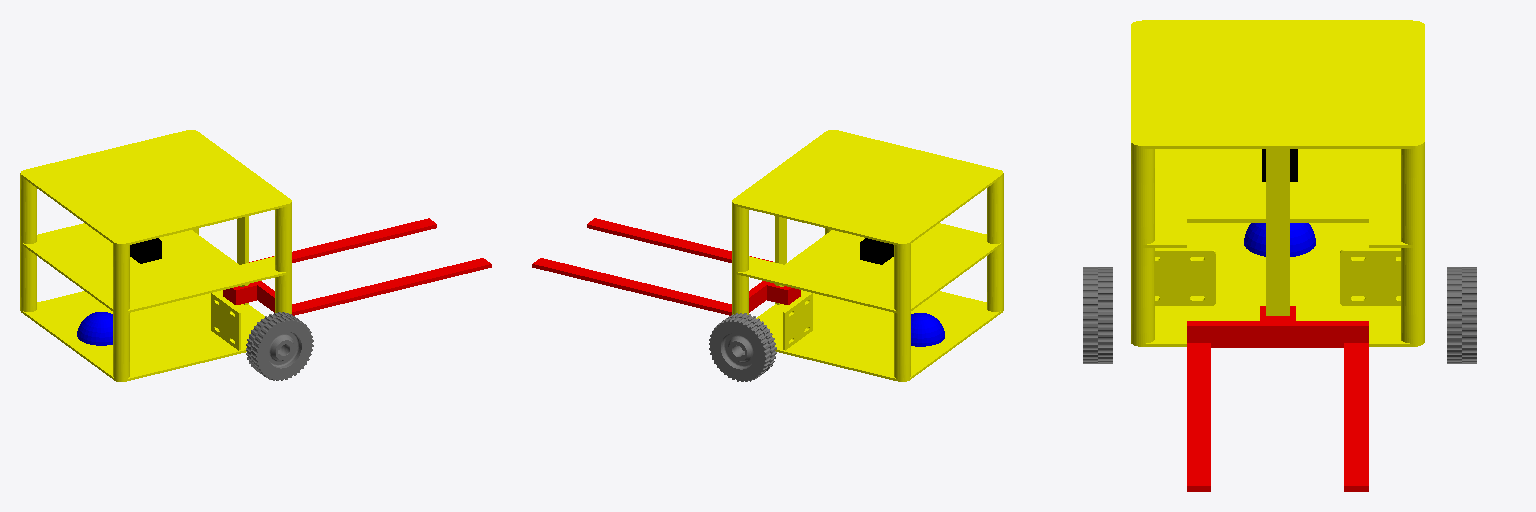
URDF robot description (forklift):
<?xml version="1.0" ?>
<!-- =================================================================================== -->
<!-- |    This document was autogenerated by xacro from src/forklift_description/urdf/robot.xacro | -->
<!-- |    EDITING THIS FILE BY HAND IS NOT RECOMMENDED                                 | -->
<!-- =================================================================================== -->
<robot name="forklift">
  <material name="silver">
    <color rgba="0.7 0.7 0.7 1.0"/>
  </material>
  <material name="green">
    <color rgba="0.0 1.0 0.0 1.0"/>
  </material>
  <material name="black">
    <color rgba="0.0 0.0 0.0 1.0"/>
  </material>
  <material name="red">
    <color rgba="1.0 0.0 0.0 1.0"/>
  </material>
  <material name="blue">
    <color rgba="0.0 0.0 1.0 1.0"/>
  </material>
  <material name="white">
    <color rgba="1.0 1.0 1.0 1.0"/>
  </material>
  <material name="yellow">
    <color rgba="1.0 1.0 0.0 1.0"/>
  </material>
  <material name="orange">
    <color rgba="1.0 0.5 0.0 1.0"/>
  </material>
  <material name="gold">
    <color rgba="1.0 0.84 0.0 1.0"/>
  </material>
  <material name="gray">
    <color rgba="0.5 0.5 0.5 1.0"/>
  </material>
  <material name="turquoise">
    <color rgba="0.25098039215686274 0.8784313725490196 0.8156862745098039 1.0"/>
  </material>
  <material name="purple">
    <color rgba="0.5019607843137255 0.0 0.5019607843137255 1.0"/>
  </material>
  <material name="aluminium">
    <color rgba="0.5 0.5 0.5 1"/>
  </material>
  <material name="plastic">
    <color rgba="0.1 0.1 0.1 1"/>
  </material>
  <!--................................ INERTIA MATRICES .............................. -->
  <!-- <xacro:include filename="$(find forklift_description)/urdf/ros2_control.xacro"/> -->
  <!-- Sensor Systems -->
  <gazebo>
    <!-- <plugin filename="libignition-gazebo-sensors-system.so"
                name="ignition::gazebo::systems::Sensors">
            <render_engine>ogre2</render_engine>
        </plugin> -->
    <!-- <plugin filename="libignition-gazebo-imu-system.so"
                name="ignition::gazebo::systems::Imu">
        </plugin> -->
    <!-- <plugin
            filename="libignition-gazebo-scene-broadcaster-system.so"
            name="ignition::gazebo::systems::SceneBroadcaster">
        </plugin> -->
    <plugin filename="libignition-gazebo-joint-state-publisher-system.so" name="ignition::gazebo::systems::JointStatePublisher">
      <joint_name>left_wheel_joint</joint_name>
      <joint_name>right_wheel_joint</joint_name>
      <joint_name>lift_joint</joint_name>
      <topic_name>/joint_states</topic_name>
      <update_rate>50</update_rate>
    </plugin>
    <!-- Loads the ros2_control hardware defined in ros2_control.xacro.
             This was missing before; without it, the controller_manager
             never spawns inside Ignition. Point <parameters> at your
             actual controllers.yaml. -->
    <!-- <plugin filename="libign_ros2_control-system.so"
                name="ign_ros2_control::IgnitionROS2ControlPlugin">
            <parameters>$(find forklift_gazebo)/config/forklift_controllers.yaml</parameters>
            <ros>
              <namespace>${prefix}</namespace>
            </ros>
        </plugin> -->
  </gazebo>
  <!-- Differential Drive Controller -->
  <gazebo>
    <plugin filename="libignition-gazebo-diff-drive-system.so" name="ignition::gazebo::systems::DiffDrive">
      <!-- Wheel Configuration -->
      <left_joint>left_wheel_joint</left_joint>
      <right_joint>right_wheel_joint</right_joint>
      <wheel_separation>0.3</wheel_separation>
      <wheel_radius>0.05</wheel_radius>
      <update_rate>50</update_rate>
      <!-- Performance Limits -->
      <max_wheel_acceleration>1.0</max_wheel_acceleration>
      <max_wheel_torque>40</max_wheel_torque>
      <!-- Odometry settings -->
      <odom_publish_frequency>50</odom_publish_frequency>
      <publish_odom>true</publish_odom>
      <publish_odom_tf>false</publish_odom_tf>
      <publish_wheel_tf>true</publish_wheel_tf>
      <!-- Topic Configuration -->
      <topic>/cmd_vel</topic>
      <odom_frame_id>odom</odom_frame_id>
      <robot_base_frame_id>base_footprint</robot_base_frame_id>
      <frame_id>odom</frame_id>
      <child_frame_id>base_footprint</child_frame_id>
    </plugin>
  </gazebo>
  <gazebo>
    <plugin filename="libignition-gazebo-joint-position-controller-system.so" name="ignition::gazebo::systems::JointPositionController">
      <joint_name>lift_joint</joint_name>
      <p_gain>1000.0</p_gain>
      <i_gain>0.2</i_gain>
      <d_gain>0.01</d_gain>
      <i_max>20</i_max>
      <i_min>-20</i_min>
      <cmd_max>1500</cmd_max>
      <cmd_min>-1500</cmd_min>
      <topic>/lift_cmd</topic>
    </plugin>
  </gazebo>
  <!-- ............................. ground truth .................................... -->
  <gazebo>
    <!-- NOTE: original filename was missing the .so extension, which
               would fail to load. Fixed here. -->
    <plugin filename="libignition-gazebo-odometry-publisher-system.so" name="ignition::gazebo::systems::OdometryPublisher">
      <odom_frame>odom</odom_frame>
      <robot_base_frame>base_footprint</robot_base_frame>
      <odom_topic>odom</odom_topic>
      <tf_topic>/tf</tf_topic>
      <dimensions>2</dimensions>
      <odom_publish_frequency>50</odom_publish_frequency>
    </plugin>
  </gazebo>
  <!-- IMU Sensor -->
  <gazebo reference="imu_link">
    <sensor name="imu_sensor" type="imu">
      <always_on>true</always_on>
      <update_rate>100</update_rate>
      <visualize>true</visualize>
      <topic>/imu</topic>
      <ignition_frame_id>imu_link</ignition_frame_id>
      <imu>
        <angular_velocity>
          <x>
            <noise type="gaussian">
              <mean>0.0</mean>
              <stddev>2e-4</stddev>
              <bias_mean>0.0000075</bias_mean>
              <bias_stddev>0.0000008</bias_stddev>
            </noise>
          </x>
          <y>
            <noise type="gaussian">
              <mean>0.0</mean>
              <stddev>2e-4</stddev>
              <bias_mean>0.0000075</bias_mean>
              <bias_stddev>0.0000008</bias_stddev>
            </noise>
          </y>
          <z>
            <noise type="gaussian">
              <mean>0.0</mean>
              <stddev>2e-4</stddev>
              <bias_mean>0.0000075</bias_mean>
              <bias_stddev>0.0000008</bias_stddev>
            </noise>
          </z>
        </angular_velocity>
        <linear_acceleration>
          <x>
            <noise type="gaussian">
              <mean>0.0</mean>
              <stddev>1.7e-2</stddev>
              <bias_mean>0.1</bias_mean>
              <bias_stddev>0.001</bias_stddev>
            </noise>
          </x>
          <y>
            <noise type="gaussian">
              <mean>0.0</mean>
              <stddev>1.7e-2</stddev>
              <bias_mean>0.1</bias_mean>
              <bias_stddev>0.001</bias_stddev>
            </noise>
          </y>
          <z>
            <noise type="gaussian">
              <mean>0.0</mean>
              <stddev>1.7e-2</stddev>
              <bias_mean>0.1</bias_mean>
              <bias_stddev>0.001</bias_stddev>
            </noise>
          </z>
        </linear_acceleration>
      </imu>
    </sensor>
  </gazebo>
  <!-- LIDAR Sensor -->
  <!-- NOTE: reference must match the actual link name in robot.xacro
         (ydlidar_lidar_mount), not the generic "lidar_link" from before. -->
  <gazebo reference="lidar_link">
    <sensor name="lidar" type="gpu_lidar">
      <always_on>true</always_on>
      <visualize>true</visualize>
      <update_rate>30</update_rate>
      <topic>/scan</topic>
      <!-- NOTE: was hardcoded to the literal string "lidar_frame_id" before.
             Now correctly references the const.xacro property. -->
      <ignition_frame_id>lidar_link</ignition_frame_id>
      <lidar>
        <scan>
          <horizontal>
            <samples>360</samples>
            <resolution>1</resolution>
            <!-- NOTE: was referencing undefined properties lidarFR_min_angle /
                   lidarFR_max_angle before. Fixed to the properties that
                   actually exist in const.xacro (lidar_min_angle / lidar_max_angle). -->
            <min_angle>0.0</min_angle>
            <max_angle>6.283185307179586</max_angle>
          </horizontal>
        </scan>
        <range>
          <min>0.2</min>
          <max>7</max>
          <resolution>0.015000</resolution>
        </range>
        <noise>
          <type>gaussian</type>
          <mean>0.0</mean>
          <stddev>0.01</stddev>
        </noise>
      </lidar>
    </sensor>
  </gazebo>
  <!-- CAMERA -->
  <!-- NOTE: reference must match the actual link name in robot.xacro
         (front_camera_mount), not the generic "camera_link" from before. -->
  <gazebo reference="camera_link">
    <sensor name="camera" type="rgbd_camera">
      <always_on>true</always_on>
      <visualize>true</visualize>
      <update_rate>30.0</update_rate>
      <topic>/camera</topic>
      <ignition_frame_id>camera_link</ignition_frame_id>
      <camera_info_topic>/camera_info</camera_info_topic>
      <camera name="camera">
        <pose>0 0 0 0 0.0 0</pose>
        <horizontal_fov>1.08</horizontal_fov>
        <image>
          <width>640</width>
          <height>480</height>
          <format>R8G8B8</format>
        </image>
        <clip>
          <near>0.05</near>
          <far>5</far>
        </clip>
        <noise>
          <type>gaussian</type>
          <mean>0.0</mean>
          <stddev>0.01</stddev>
        </noise>
        <baseline>0.2</baseline>
        <pointCloudCutoff>0.5</pointCloudCutoff>
        <pointCloudCutoffMax>3.0</pointCloudCutoffMax>
        <distortionK1>0</distortionK1>
        <distortionK2>0</distortionK2>
        <distortionK3>0</distortionK3>
        <distortionT1>0</distortionT1>
        <distortionT2>0</distortionT2>
        <CxPrime>0</CxPrime>
        <Cx>0</Cx>
        <Cy>0</Cy>
        <focalLength>0</focalLength>
        <hackBaseline>0</hackBaseline>
      </camera>
    </sensor>
  </gazebo>
  <!-- ................................ BASE LINK .................................. -->
  <link name="base_footprint"/>
  <link name="base_link">
    <visual>
      <origin rpy="0 0 3.14159" xyz="-0.15 -0.045 0.15"/>
      <geometry>
        <mesh filename="package://forklift_description/meshes/mini_forklift_base.stl" scale="0.001 0.001 0.001"/>
      </geometry>
      <material name="yellow"/>
    </visual>
    <collision>
      <origin rpy="0 0 3.14159" xyz="-0.15 -0.045 0.15"/>
      <geometry>
        <box size="0.245 0.2426 0.18"/>
      </geometry>
    </collision>
    <inertial>
      <origin rpy="0 0 0" xyz="0 0 0"/>
      <mass value="3.0"/>
      <inertia ixx="0.02281369" ixy="0" ixz="0" iyy="0.02310625" iyz="0" izz="0.02971994"/>
    </inertial>
  </link>
  <joint name="base_joint" type="fixed">
    <parent link="base_footprint"/>
    <child link="base_link"/>
    <origin rpy="0 0 0" xyz="0.0 0.0 0.04"/>
  </joint>
  <!-- Wheel Link -->
  <link name="left_wheel_link">
    <visual>
      <origin rpy="1.5707963267948966 0 0" xyz="0 0 0"/>
      <geometry>
        <mesh filename="package://forklift_description/meshes/wheel.stl" scale="0.001 0.001 0.001"/>
      </geometry>
      <material name="black">
        <color rgba="0.5 0.5 0.5 1.0"/>
      </material>
    </visual>
    <collision>
      <origin rpy="1.5707963267948966 0 0" xyz="0 0 0"/>
      <geometry>
        <cylinder length="0.025" radius="0.04"/>
      </geometry>
    </collision>
    <inertial>
      <origin rpy="1.5707963267948966 0 0" xyz="0 0 0"/>
      <mass value="0.1"/>
      <inertia ixx="4.5208333333333325e-05" ixy="0.0" ixz="0.0" iyy="8e-05" iyz="0.0" izz="4.5208333333333325e-05"/>
    </inertial>
  </link>
  <!-- Wheel Joint -->
  <joint name="left_wheel_joint" type="continuous">
    <parent link="base_link"/>
    <child link="left_wheel_link"/>
    <origin rpy="0 0 0" xyz="0.1 0.15 0.0"/>
    <axis xyz="0 1 0"/>
    <dynamics damping="0.2"/>
  </joint>
  <!-- Gazebo Simulation Properties -->
  <gazebo reference="left_wheel_link">
    <material>Gazebo/Black</material>
    <mu>5.0</mu>
  </gazebo>
  <!-- Wheel Link -->
  <link name="right_wheel_link">
    <visual>
      <origin rpy="1.5707963267948966 0 0" xyz="0 0 0"/>
      <geometry>
        <mesh filename="package://forklift_description/meshes/wheel.stl" scale="0.001 0.001 0.001"/>
      </geometry>
      <material name="black">
        <color rgba="0.5 0.5 0.5 1.0"/>
      </material>
    </visual>
    <collision>
      <origin rpy="1.5707963267948966 0 0" xyz="0 0 0"/>
      <geometry>
        <cylinder length="0.025" radius="0.04"/>
      </geometry>
    </collision>
    <inertial>
      <origin rpy="1.5707963267948966 0 0" xyz="0 0 0"/>
      <mass value="0.1"/>
      <inertia ixx="4.5208333333333325e-05" ixy="0.0" ixz="0.0" iyy="8e-05" iyz="0.0" izz="4.5208333333333325e-05"/>
    </inertial>
  </link>
  <!-- Wheel Joint -->
  <joint name="right_wheel_joint" type="continuous">
    <parent link="base_link"/>
    <child link="right_wheel_link"/>
    <origin rpy="0 0 0" xyz="0.1 -0.15 0.0"/>
    <axis xyz="0 1 0"/>
    <dynamics damping="0.2"/>
  </joint>
  <!-- Gazebo Simulation Properties -->
  <gazebo reference="right_wheel_link">
    <material>Gazebo/Black</material>
    <mu>5.0</mu>
  </gazebo>
  <link name="lift_link">
    <visual>
      <origin rpy="0 0 3.14159" xyz="-0.59 -0.045 0.15"/>
      <geometry>
        <mesh filename="package://forklift_description/meshes/fork.stl" scale="0.002 0.001 0.001"/>
      </geometry>
      <material name="red"/>
    </visual>
    <collision>
      <origin rpy="0 0 3.14159" xyz="-0.59 -0.045 0.15"/>
      <geometry>
        <mesh filename="package://forklift_description/meshes/fork.stl" scale="0.002 0.001 0.001"/>
      </geometry>
    </collision>
    <inertial>
      <origin rpy="0 0 0" xyz="0 0 0"/>
      <mass value="0.5"/>
      <inertia ixx="0.0024897816666666667" ixy="0" ixz="0" iyy="0.0037874999999999996" iyz="0" izz="0.006202281666666667"/>
    </inertial>
  </link>
  <joint name="lift_joint" type="prismatic">
    <parent link="base_link"/>
    <child link="lift_link"/>
    <origin rpy="0 0 0" xyz="0.1525 0.0 0"/>
    <axis xyz="0 0 1"/>
    <limit effort="500" lower="0.0" upper="0.15" velocity="0.1"/>
    <dynamics damping="5.0" friction="1.0"/>
  </joint>
  <gazebo reference="lift_link">
    <material>Gazebo/Yellow</material>
    <mu1>10.0</mu1>
    <mu2>10.0</mu2>
    <kp>1000000</kp>
    <kd>10</kd>
    <max_contacts>20</max_contacts>
  </gazebo>
  <transmission name="left_wheel_trans">
    <type>transmission_interface/SimpleTransmission</type>
    <joint name="left_wheel_joint">
      <hardwareInterface>hardware_interface/VelocityJointInterface</hardwareInterface>
    </joint>
    <actuator name="left_wheel_motor">
      <hardwareInterface>hardware_interface/VelocityJointInterface</hardwareInterface>
      <mechanicalReduction>1</mechanicalReduction>
    </actuator>
  </transmission>
  <transmission name="right_wheel_trans">
    <type>transmission_interface/SimpleTransmission</type>
    <joint name="right_wheel_joint">
      <hardwareInterface>hardware_interface/VelocityJointInterface</hardwareInterface>
    </joint>
    <actuator name="right_wheel_motor">
      <hardwareInterface>hardware_interface/VelocityJointInterface</hardwareInterface>
      <mechanicalReduction>1</mechanicalReduction>
    </actuator>
  </transmission>
  <transmission name="lift_trans">
    <type>transmission_interface/SimpleTransmission</type>
    <joint name="lift_joint">
      <hardwareInterface>hardware_interface/PositionJointInterface</hardwareInterface>
    </joint>
    <actuator name="lift_motor">
      <hardwareInterface>hardware_interface/PositionJointInterface</hardwareInterface>
      <mechanicalReduction>1</mechanicalReduction>
    </actuator>
  </transmission>
  <!-- Add more wheels if needed -->
  <link name="front_caster">
    <visual>
      <geometry>
        <sphere radius="0.03"/>
      </geometry>
      <material name="Blue">
        <color rgba="0 0 1.0 1.0"/>
      </material>
    </visual>
    <collision>
      <geometry>
        <sphere radius="0.03"/>
      </geometry>
    </collision>
    <inertial>
      <origin rpy="0 0 0" xyz="0 0 0"/>
      <mass value="0.2"/>
      <inertia ixx="7.2e-05" ixy="0" ixz="0" iyy="7.2e-05" iyz="0" izz="7.2e-05"/>
    </inertial>
  </link>
  <joint name="caster_joint" type="fixed">
    <parent link="base_link"/>
    <child link="front_caster"/>
    <origin rpy="0 0 0" xyz="-0.06 0.0 -0.01"/>
  </joint>
  <gazebo reference="front_caster">
    <mu1>0.1</mu1>
    <mu2>0.1</mu2>
  </gazebo>
  <!-- IMU -->
  <link name="imu_link">
    <visual>
      <geometry>
        <box size="0.03 0.03 0.03"/>
      </geometry>
      <material name="Black">
        <color rgba="0 0 0.0 1.0"/>
      </material>
    </visual>
    <collision>
      <geometry>
        <box size="0.03 0.03 0.03"/>
      </geometry>
    </collision>
    <inertial>
      <origin rpy="0 0 0" xyz="0 0 0"/>
      <mass value="0.1"/>
      <inertia ixx="1.5e-05" ixy="0" ixz="0" iyy="1.5e-05" iyz="0" izz="1.5e-05"/>
    </inertial>
  </link>
  <joint name="imu_joint" type="fixed">
    <parent link="base_link"/>
    <child link="imu_link"/>
    <origin rpy="0 0 0" xyz="0.0 0.0 0.09"/>
  </joint>
  <!-- RPLIDAR -->
  <link name="lidar_link">
    <visual>
      <origin rpy="0 0 0" xyz="0 0 -0.0"/>
      <geometry>
        <mesh filename="package://forklift_description/meshes/ydlidar_x2_assy.dae" scale="1 1 1"/>
      </geometry>
    </visual>
    <collision>
      <origin rpy="0 0 0" xyz="0 0 0"/>
      <geometry>
        <cylinder length="0.045" radius="0.045"/>
      </geometry>
    </collision>
    <inertial>
      <origin rpy="0 0 0" xyz="0.007 0 0.025"/>
      <mass value="0.15"/>
      <inertia ixx="0.000058" ixy="0" ixz="0.000005" iyy="0.000099" iyz="0" izz="0.000103"/>
    </inertial>
  </link>
  <joint name="lidar_joint" type="fixed">
    <parent link="base_link"/>
    <child link="lidar_link"/>
    <origin rpy="0 0 0" xyz="-0.01 0.0 0.16999999999999998"/>
  </joint>
  <!-- Raspberry Pi Camera V2 -->
  <link name="camera_link">
    <visual>
      <origin rpy="0 0.0 0" xyz="0 0 -0.0"/>
      <geometry>
        <mesh filename="package://forklift_description/meshes/front_camera.dae" scale="1 1 1"/>
      </geometry>
    </visual>
    <collision>
      <origin rpy="0 0.0 0" xyz="0 0 0"/>
      <geometry>
        <box size="0.022 0.022 0.022"/>
      </geometry>
    </collision>
    <inertial>
      <origin rpy="0 0 0" xyz="0.005 0 0.013"/>
      <mass value="0.05"/>
      <inertia ixx="0.000005" ixy="0" ixz="-0.000001" iyy="0.000004" iyz="0" izz="0.000003"/>
    </inertial>
  </link>
  <joint name="camera_joint" type="fixed">
    <parent link="lift_link"/>
    <child link="camera_link"/>
    <origin rpy="0 0.0 0" xyz="0.01 0 0"/>
    <!-- <origin xyz="-0.0 0 0" rpy="0 0.0 0"/> -->
  </joint>
</robot>

--- Facts derived from the render (not from the file) ---
The picture shows the robot from 3 angles, left to right: view 1: azimuth 30°, elevation 25°; view 2: azimuth 150°, elevation 25°; view 3: azimuth 270°, elevation 25°; orthographic projection.
Robot: forklift — 9 links, 8 joints (2 continuous, 1 prismatic, 5 fixed); root link base_footprint; default pose: every joint at zero.
Visible links, largest first — view 1: base_link, lift_link, right_wheel_link, front_caster, imu_link; view 2: base_link, lift_link, left_wheel_link, front_caster, imu_link; view 3: base_link, lift_link, left_wheel_link, right_wheel_link, front_caster.
Boxes of the visible links, bbox=[...] form: base_link: bbox=[20, 130, 291, 381]; lift_link: bbox=[223, 218, 491, 315]; right_wheel_link: bbox=[246, 312, 313, 380]; front_caster: bbox=[77, 312, 112, 345]; imu_link: bbox=[130, 238, 161, 263]; base_link: bbox=[732, 130, 1003, 381]; lift_link: bbox=[532, 218, 800, 315]; left_wheel_link: bbox=[709, 313, 776, 381]; front_caster: bbox=[911, 313, 944, 346]; imu_link: bbox=[860, 238, 893, 264]; base_link: bbox=[1131, 20, 1424, 346]; lift_link: bbox=[1187, 306, 1368, 491]; left_wheel_link: bbox=[1447, 267, 1476, 363]; right_wheel_link: bbox=[1083, 267, 1112, 363]; front_caster: bbox=[1244, 223, 1315, 256].
Size in the robot's own frame: 0.5443 by 0.325 by 0.2116 metres.
4 mesh visuals loaded from 5 distinct referenced files (3 binary STL); not drawn: 2 (file found but could not be loaded).
